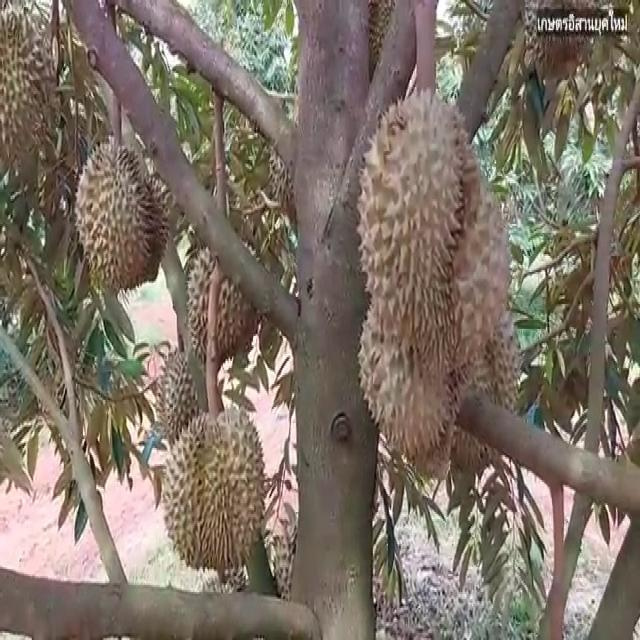durian: (352, 76, 515, 373), (412, 275, 524, 480), (354, 252, 460, 468), (160, 398, 270, 589), (69, 129, 174, 303), (184, 227, 265, 376), (1, 3, 64, 185), (146, 342, 220, 455)
